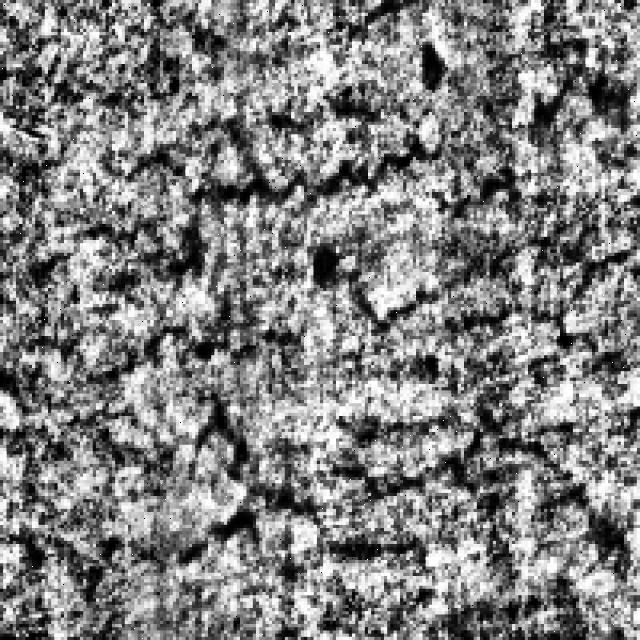Pitted_Surface: (19, 397, 608, 586), (304, 131, 605, 426), (3, 221, 221, 592), (118, 57, 614, 212)
